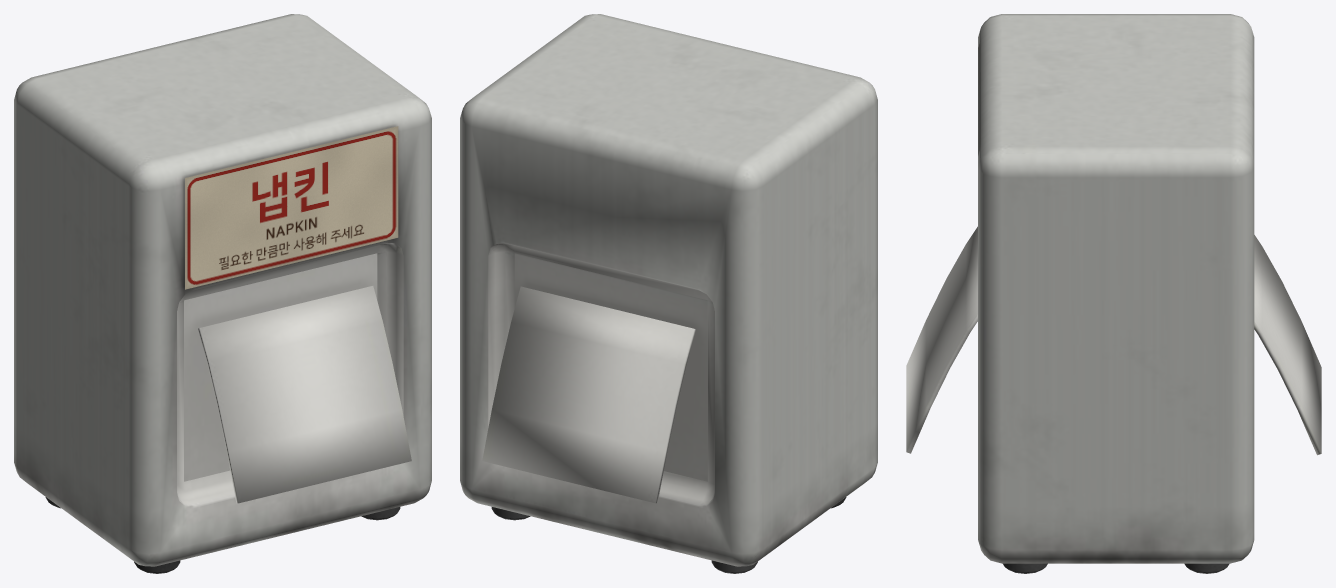
The model's file is StoreNapkinDispenser.fbx.
3 views of the same model, side by side, from view 1: azimuth 30°, elevation 25°; view 2: azimuth 150°, elevation 25°; view 3: azimuth 270°, elevation 25° (orthographic). The views are drawn at different scales.
Parts seen in each view (by area): view 1: StoreNapkinDispenser; view 2: StoreNapkinDispenser; view 3: StoreNapkinDispenser.
Part boxes in pixels (x1,y1,x2,y2): StoreNapkinDispenser: [14, 14, 431, 573]; StoreNapkinDispenser: [460, 14, 877, 573]; StoreNapkinDispenser: [906, 14, 1321, 573].
Bounding box in the file's own units: 0.09 × 0.12 × 0.1051.
